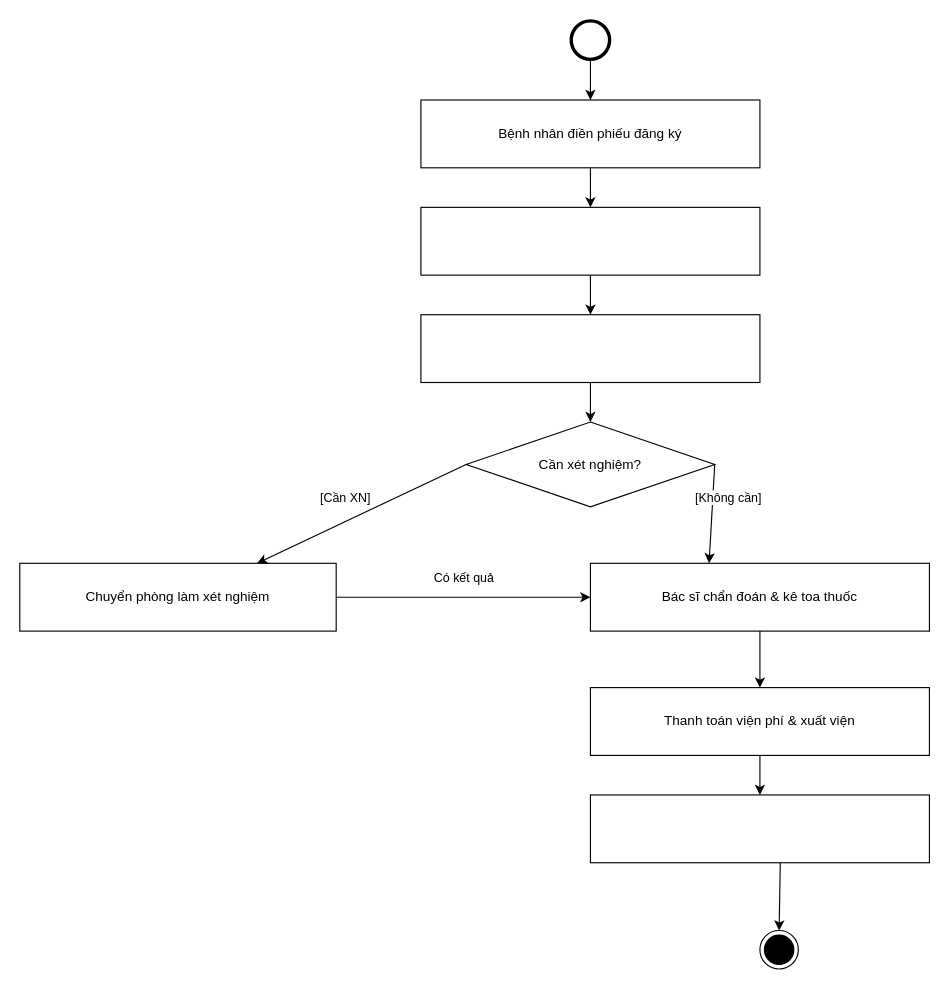
Image size: 949x989. Some labels were removed from this diagram. Each missing label, with the centre of its shape:
"Bác sĩ khám & ghi nhận triệu chứng" belongs at [590,348].
"CSKH lưu thông tin vào máy tính" belongs at [759,828].
"Đóng lệ phí năm & nhận hồ sơ" belongs at [590,240].
